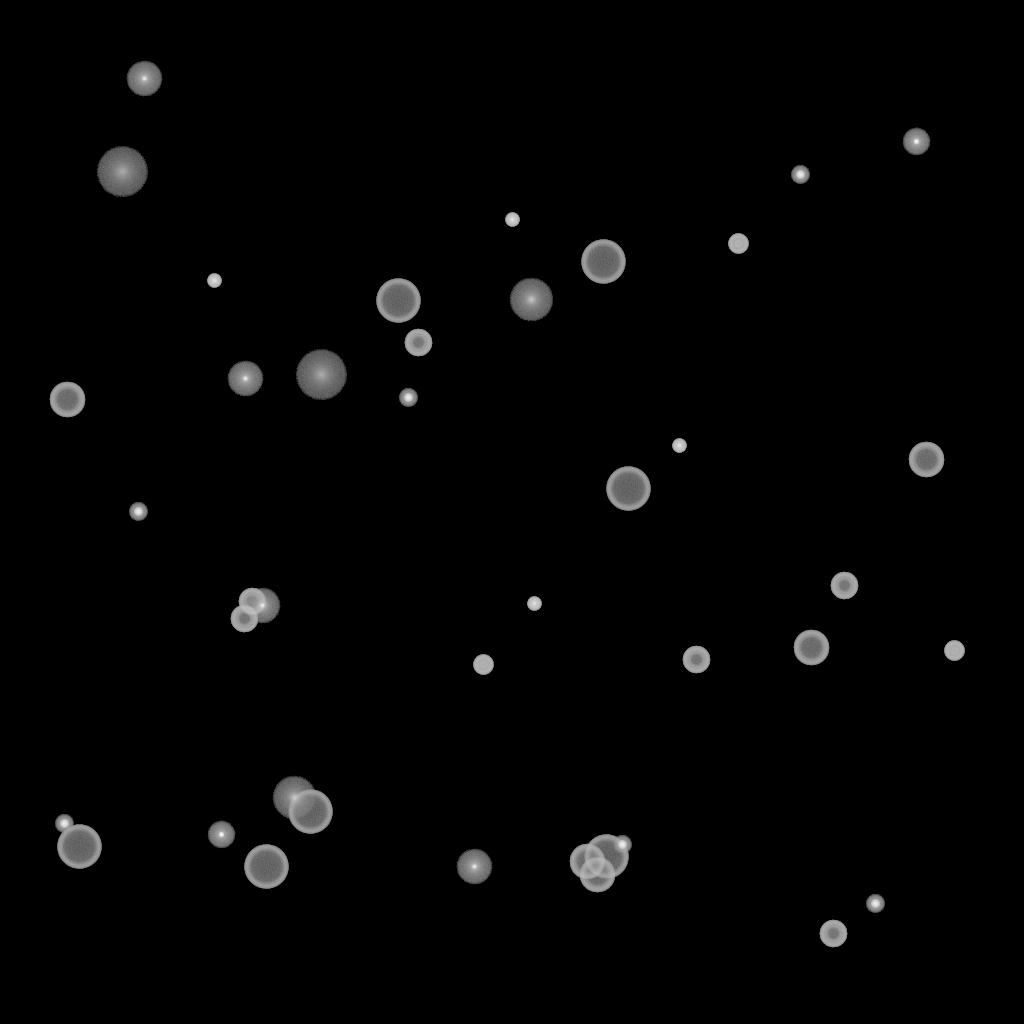depth:-10: (902, 128, 930, 156), (207, 821, 235, 849)
depth:-20: (399, 389, 417, 407), (791, 166, 809, 184), (866, 895, 884, 913), (613, 836, 631, 854), (129, 503, 147, 521), (55, 815, 73, 833)
depth:-30: (505, 213, 519, 227), (527, 597, 541, 611), (207, 274, 221, 288), (672, 439, 686, 453)
depth:-40: (728, 234, 748, 254), (473, 655, 493, 675), (944, 641, 964, 661)
depth:-50: (830, 572, 858, 600), (230, 605, 258, 633), (682, 646, 710, 674), (238, 588, 266, 616), (819, 920, 847, 948), (404, 329, 432, 357)
depth:-60: (793, 630, 829, 666), (908, 442, 944, 478), (49, 382, 85, 418), (569, 844, 605, 880), (579, 857, 615, 893)
depth:-70: (244, 845, 288, 889), (606, 467, 650, 511), (584, 835, 628, 879), (57, 825, 101, 869), (288, 790, 332, 834), (581, 240, 625, 284), (376, 279, 420, 323)
depth:0: (456, 849, 492, 885), (126, 61, 162, 97), (244, 588, 280, 624), (227, 361, 263, 397)
depth:10: (509, 278, 553, 322), (272, 776, 316, 820)
depth:20: (295, 350, 347, 400), (96, 147, 148, 197)
